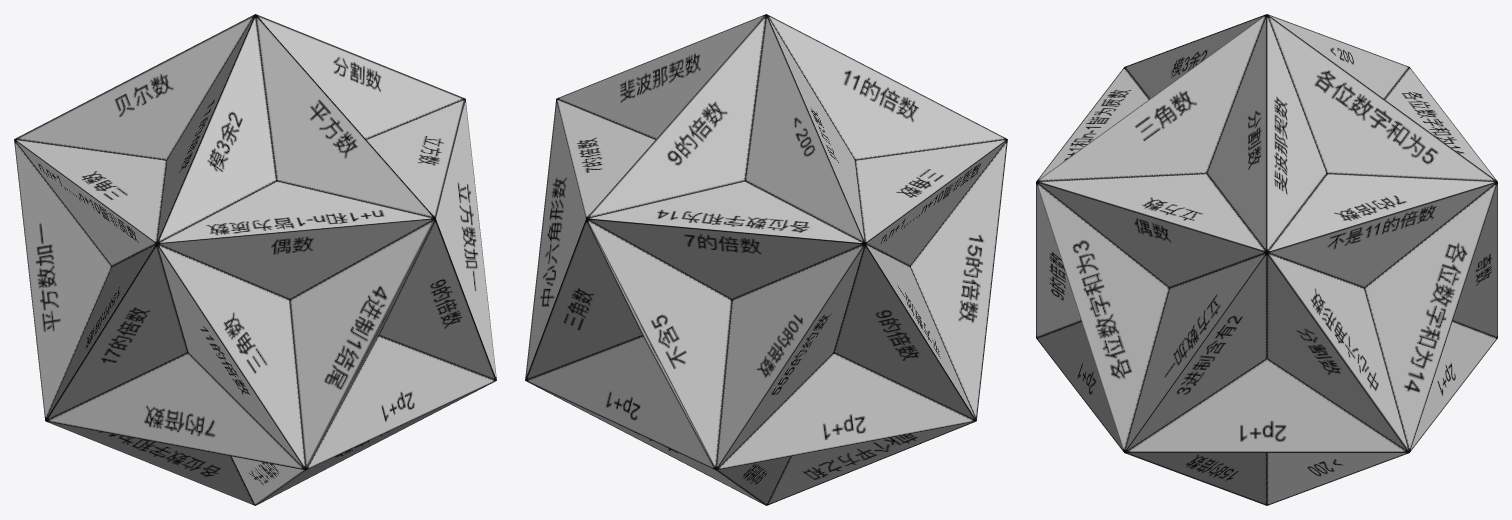
3 views of the same model, side by side, from view 1: azimuth 30°, elevation 25°; view 2: azimuth 150°, elevation 25°; view 3: azimuth 270°, elevation 25° (orthographic).
Parts seen in each view (by area): view 1: Icosphere; view 2: Icosphere; view 3: Icosphere.
Boxes of the visible parts, bbox=[...] form: Icosphere: bbox=[14, 14, 496, 505]; Icosphere: bbox=[525, 14, 1007, 505]; Icosphere: bbox=[1036, 14, 1497, 505].
Size of the model in its own units: 1.79 by 2 by 1.7.
Materials: 1 (1 with a texture image).
